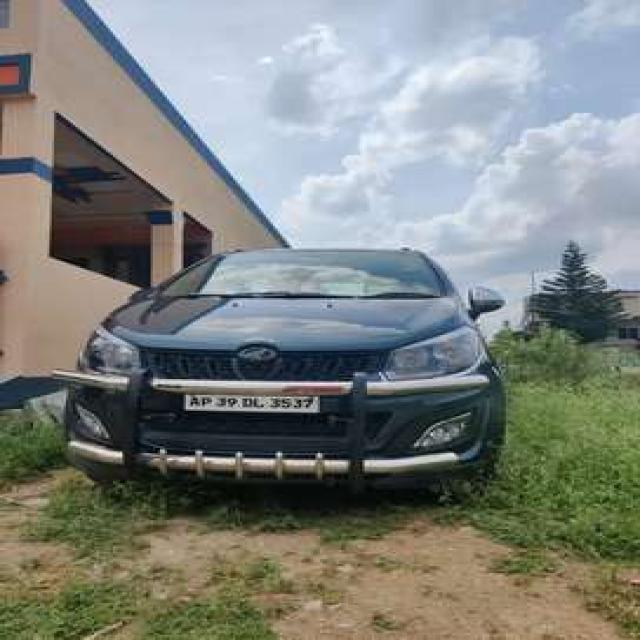plate: (185, 393, 323, 415)
